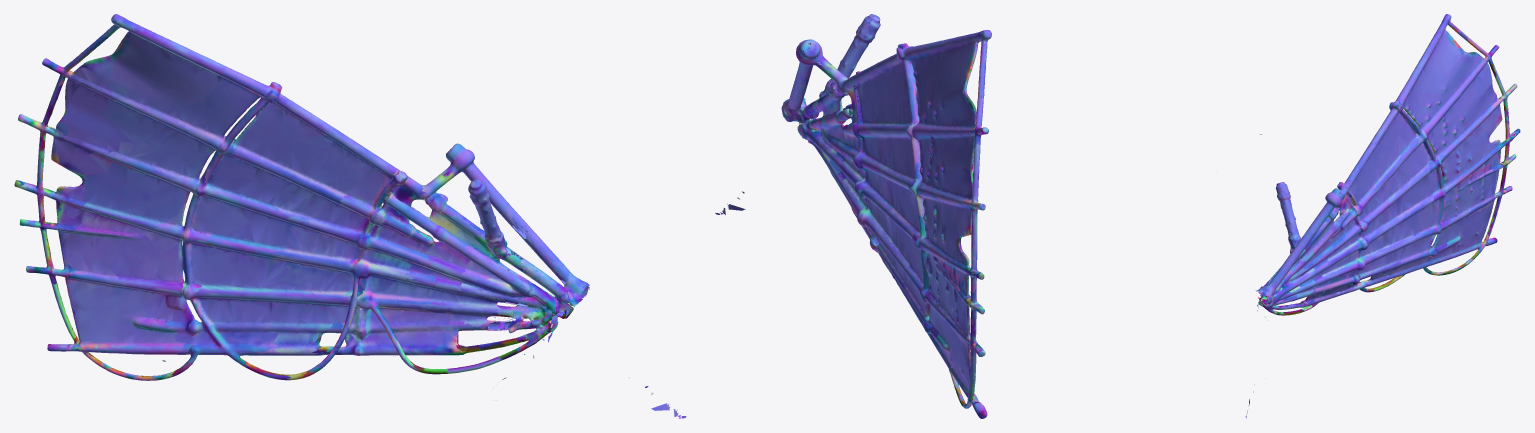
The model's file is ala_izq.obj.
3 renders of one model, left to right at view 1: azimuth 30°, elevation 25°; view 2: azimuth 150°, elevation 25°; view 3: azimuth 270°, elevation 25°, orthographic. The views are drawn at different scales.
Parts seen in each view (by area): view 1: nave.001_Material.001; view 2: nave.001_Material.001; view 3: nave.001_Material.001.
Part boxes in pixels (x1,y1,x2,y2): nave.001_Material.001: (14, 14, 686, 418); nave.001_Material.001: (715, 14, 991, 418); nave.001_Material.001: (1245, 14, 1520, 418).
Size of the model in its own units: 1.05 by 0.7754 by 0.725.
